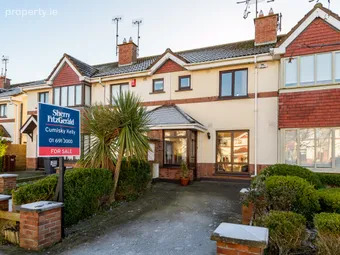property sign: (31, 98, 85, 161)
